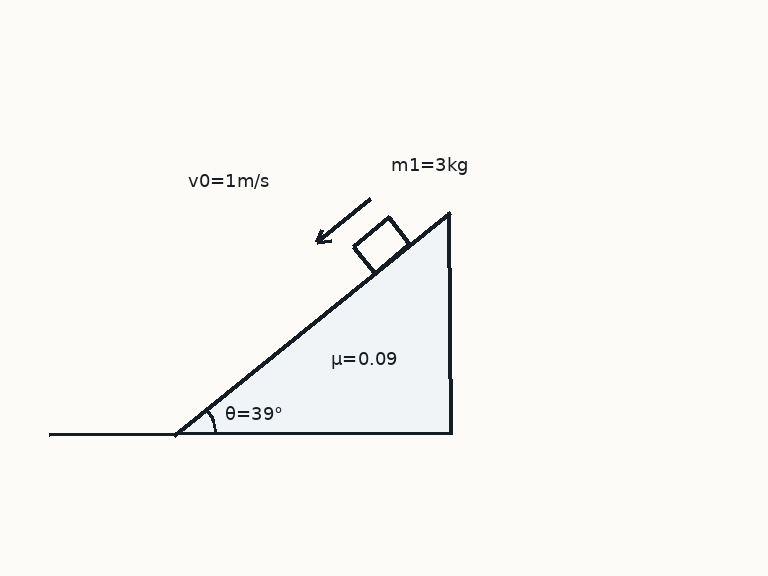block: (351, 215, 412, 275)
ramp: (173, 210, 451, 436)
